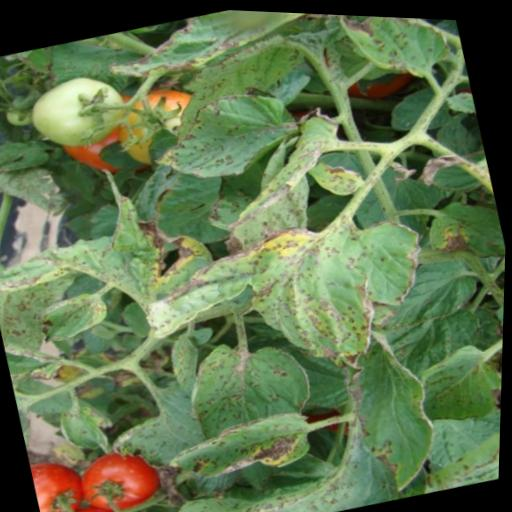Bacterial Spot: (124, 182, 454, 413), (0, 202, 186, 331), (136, 72, 323, 200), (329, 316, 452, 499), (177, 317, 328, 441), (154, 395, 326, 495), (29, 280, 114, 347)
